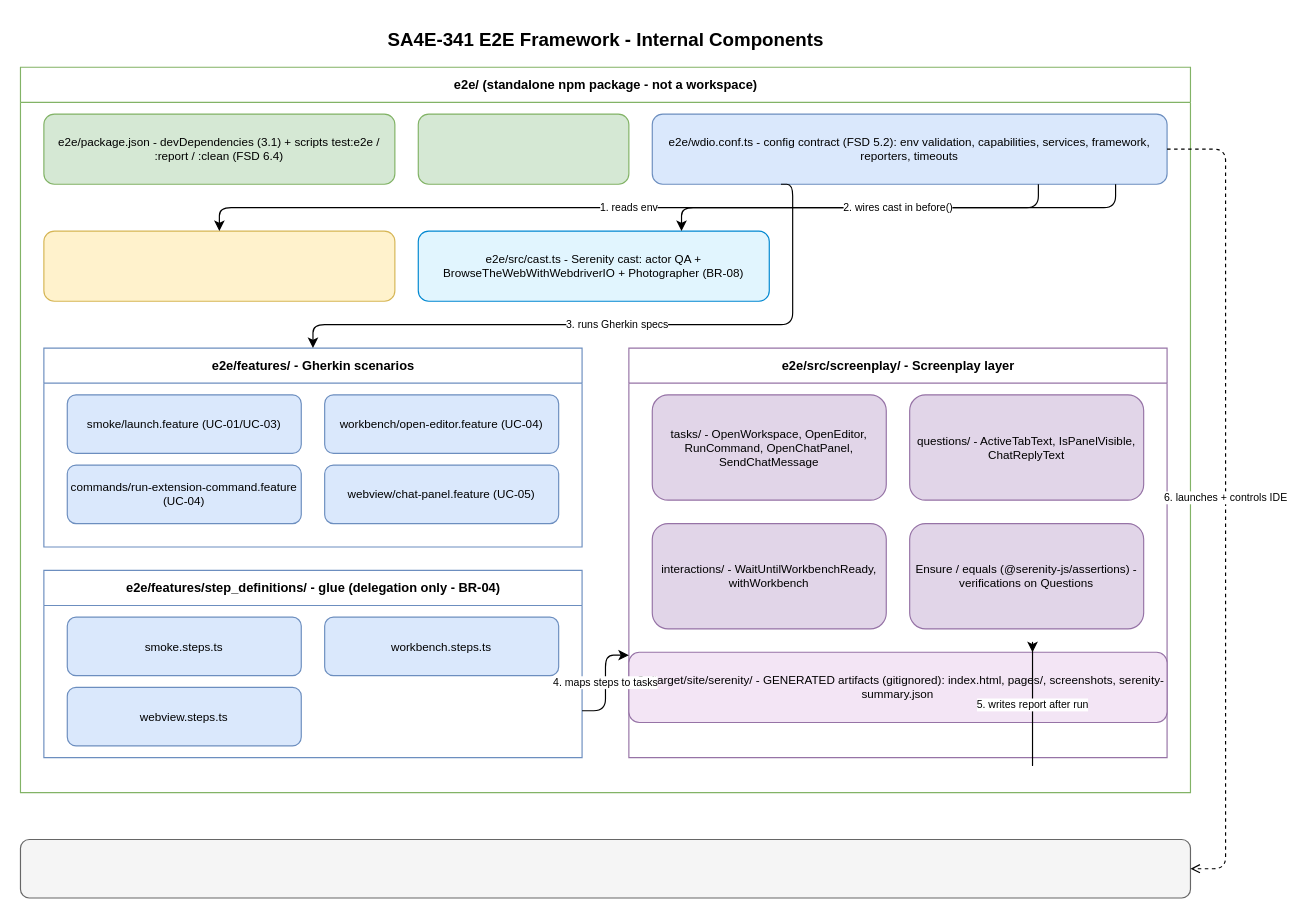
Some shapes in this 1307 by 918 pixel diagram are drawn without their labels. The centre of each missing label's shape, as x and y in pixels:
"e2e/src/support/env.ts - E2E env schema + fail-fast validation (BR-01)" goes at [219,265].
"e2e/tsconfig.json - TS config" goes at [523,148].
"External: wdio-vscode-service + IDE binary (VSCode / Kiro / Antigravity / Kilo)" goes at [604,868].
